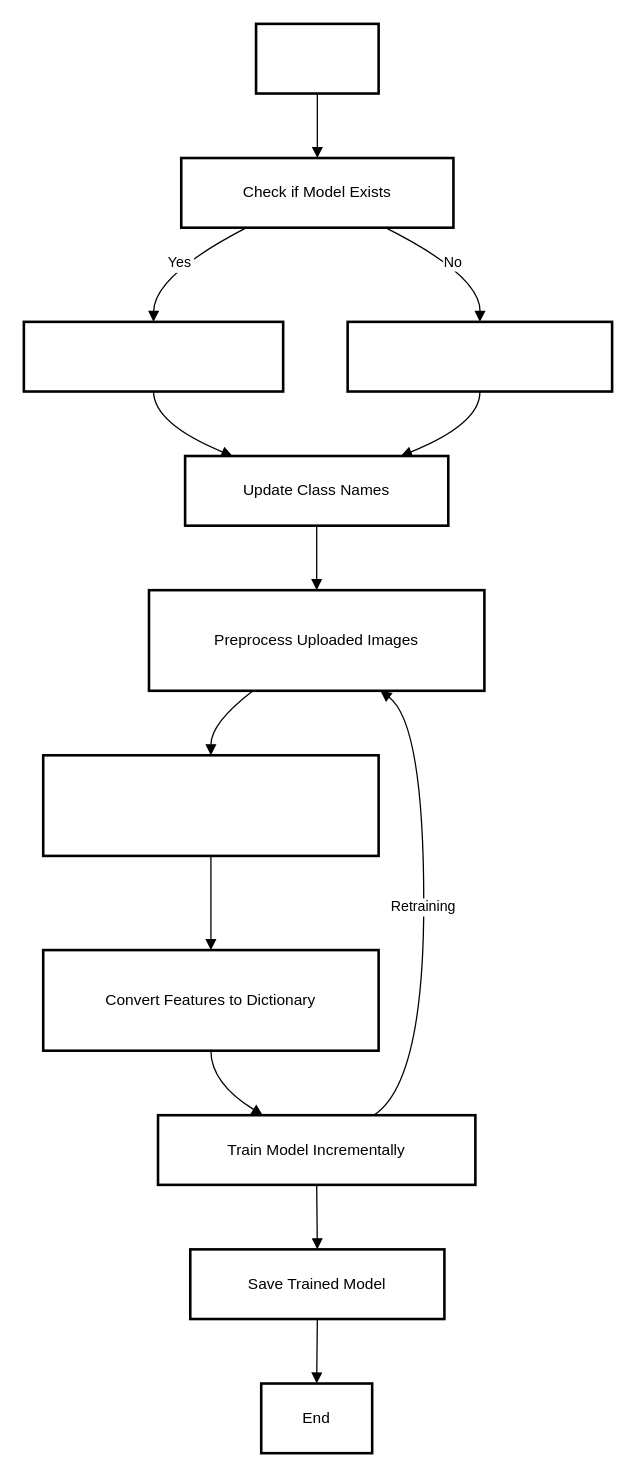
The diagram is 635 pixels wide and 1476 high, and some of its shapes have lost their labels. The centre of each missing label's shape, as x and y in pixels:
"Extract Features from Images" belongs at pixel 210 805.
"Initialize New Model" belongs at pixel 479 356.
"Load Existing Model" belongs at pixel 153 356.
"Start" belongs at pixel 316 58.
